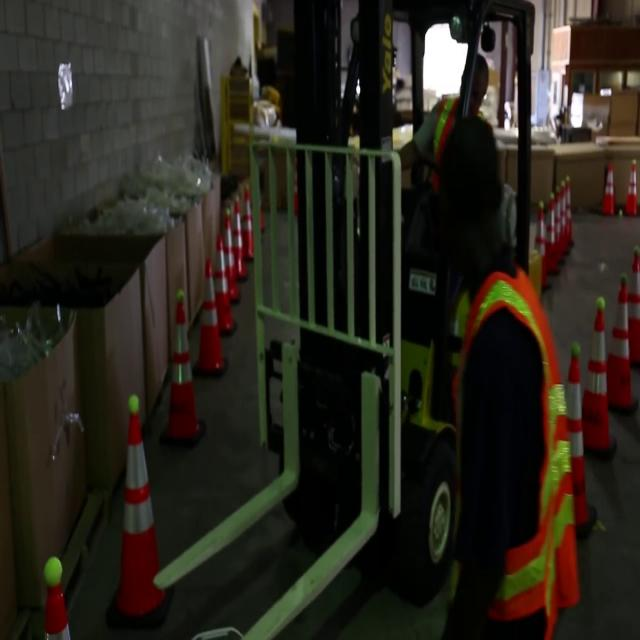Chariot elevateur: (211, 1, 563, 615)
